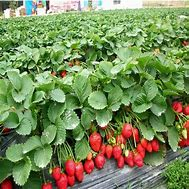Fresa: (131, 149, 144, 168), (89, 131, 101, 151), (73, 162, 84, 183), (64, 158, 76, 175), (94, 152, 106, 169), (124, 150, 134, 169), (50, 165, 62, 180), (83, 158, 94, 173), (57, 174, 68, 189), (150, 137, 161, 152), (112, 143, 122, 159), (171, 101, 182, 113), (105, 143, 112, 160), (140, 138, 147, 150)
